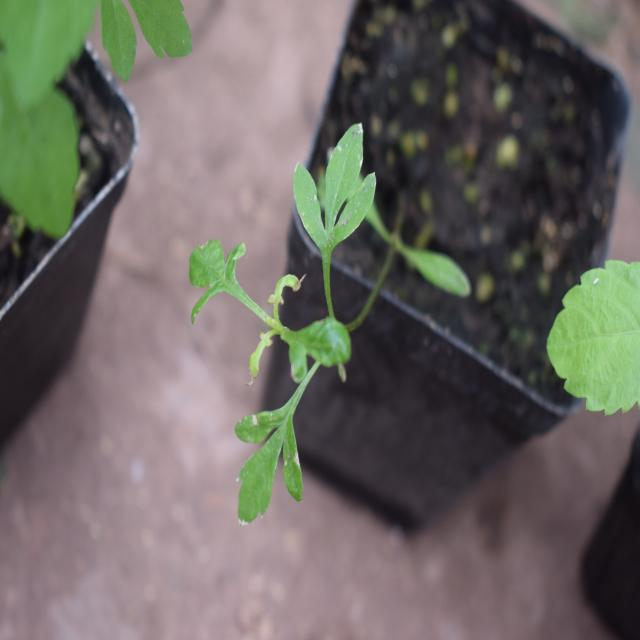Bidens pilosa: (167, 116, 405, 541)
